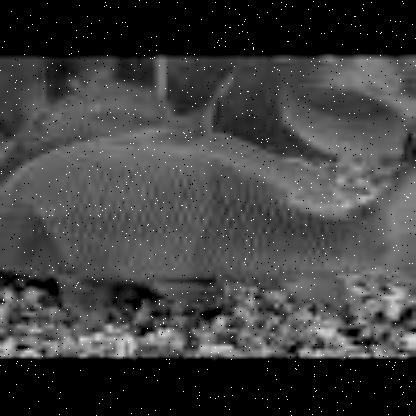ikan-mas: (0, 142, 416, 294)
